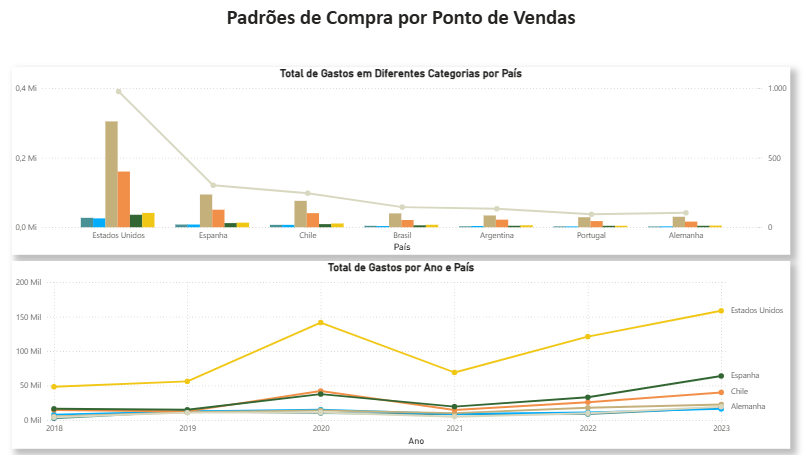

The page's visual inventory and layout, read from the dashboard file:
{"tool":"powerbi","page":{"name":"Visão Pontos de Venda","canvas":[1280,720],"ordinal":3},"visuals":[{"type":"lineClusteredColumnComboChart","title":"Total de Gastos em Diferentes Categorias por País","fields":{"Category":["DadosMarketing.Pais"],"Y":["Sum(DadosMarketing.Gasto com Alimentos)","Sum(DadosMarketing.Gasto com Brinquedos)","Sum(DadosMarketing.Gasto com Eletronicos)","Sum(DadosMarketing.Gasto com Moveis)","Sum(DadosMarketing.Gasto com Utilidades)","Sum(DadosMarketing.Gasto com Vestuario)"],"Y2":["CountNonNull(DadosMarketing.ID)"]},"box":[24.8,114.7,1205.6,291.3],"z":0},{"type":"lineChart","title":"Total de Gastos por Ano e País","fields":{"Category":["DadosMarketing.Data Cadastro.Variation.Hierarquia de datas.Ano"],"Y":["DadosMarketing.TotalGasto"],"Series":["DadosMarketing.Pais"]},"box":[25,415.6,1206,291],"z":1},{"type":"textbox","box":[100.7,12.4,1053.8,65.1],"z":2}]}

Visuals, with their boxes in screenshot pixels (x1, y1, x2, y2), scaled from the page's 1280x720 canvas onto the 807x459 screenshot:
"Total de Gastos em Diferentes Categorias por País" lineClusteredColumnComboChart: Rect(16, 73, 776, 259)
"Total de Gastos por Ano e País" lineChart: Rect(16, 265, 776, 450)
textbox: Rect(63, 8, 728, 49)
